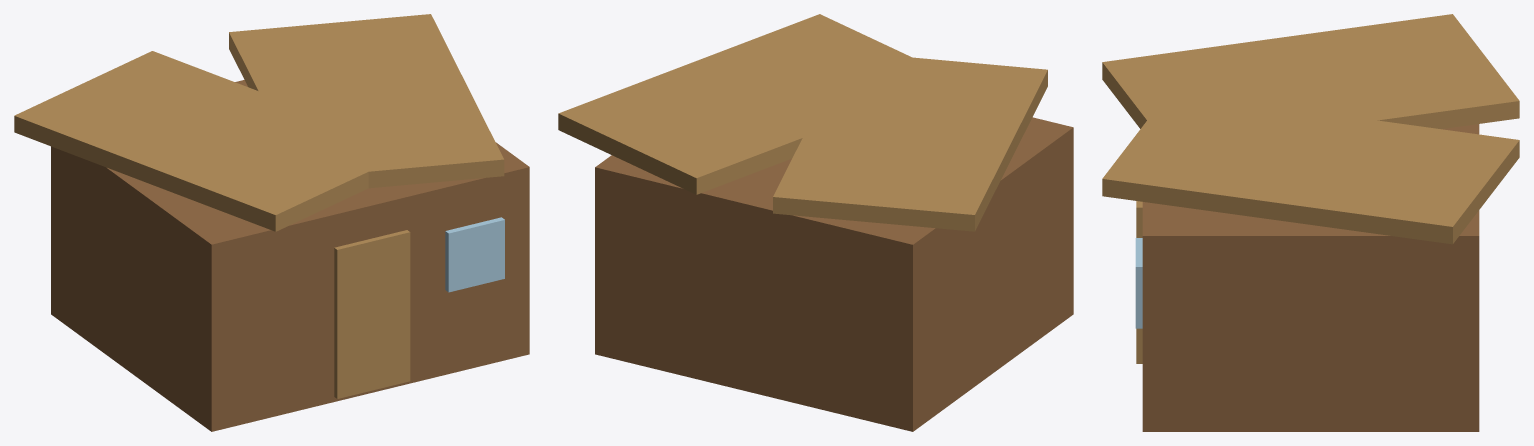
The model's file is Mush_MapProp_StartCabin_V2.fbx.
The picture shows the model from 3 angles, left to right: view 1: azimuth 30°, elevation 25°; view 2: azimuth 150°, elevation 25°; view 3: azimuth 270°, elevation 25°; orthographic projection. The views are drawn at different scales.
Parts seen in each view (by area): view 1: Mush_MapProp_StartCabin_V2; view 2: Mush_MapProp_StartCabin_V2; view 3: Mush_MapProp_StartCabin_V2.
Part boxes in pixels (x1,y1,x2,y2): Mush_MapProp_StartCabin_V2: (14,14,529,431); Mush_MapProp_StartCabin_V2: (558,14,1073,431); Mush_MapProp_StartCabin_V2: (1102,14,1519,431).
Size of the model in its own units: 629 by 317 by 521.
